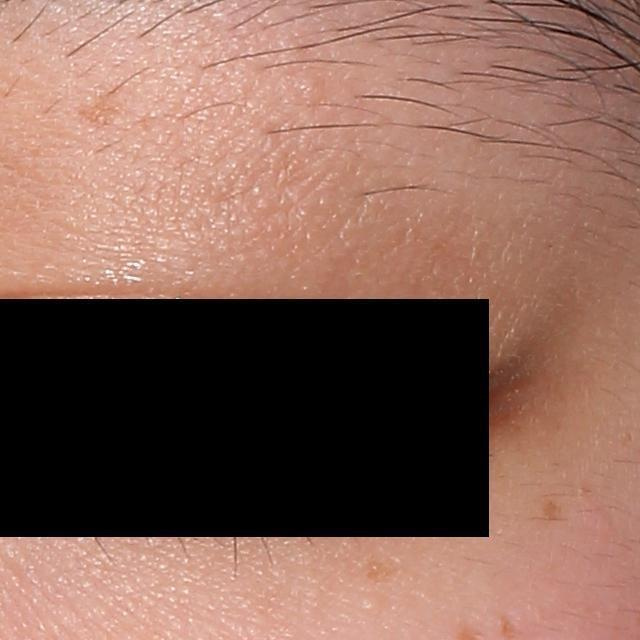melasma: (74, 87, 134, 128), (359, 556, 408, 587), (540, 498, 560, 523)
